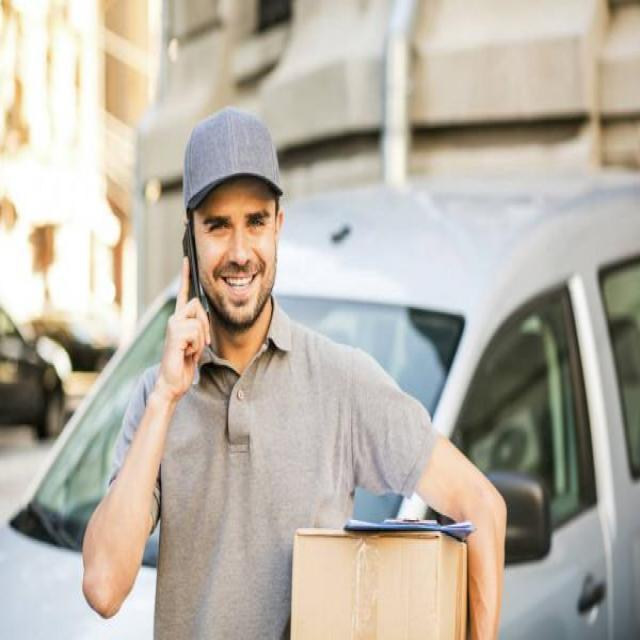box: (286, 516, 472, 640)
